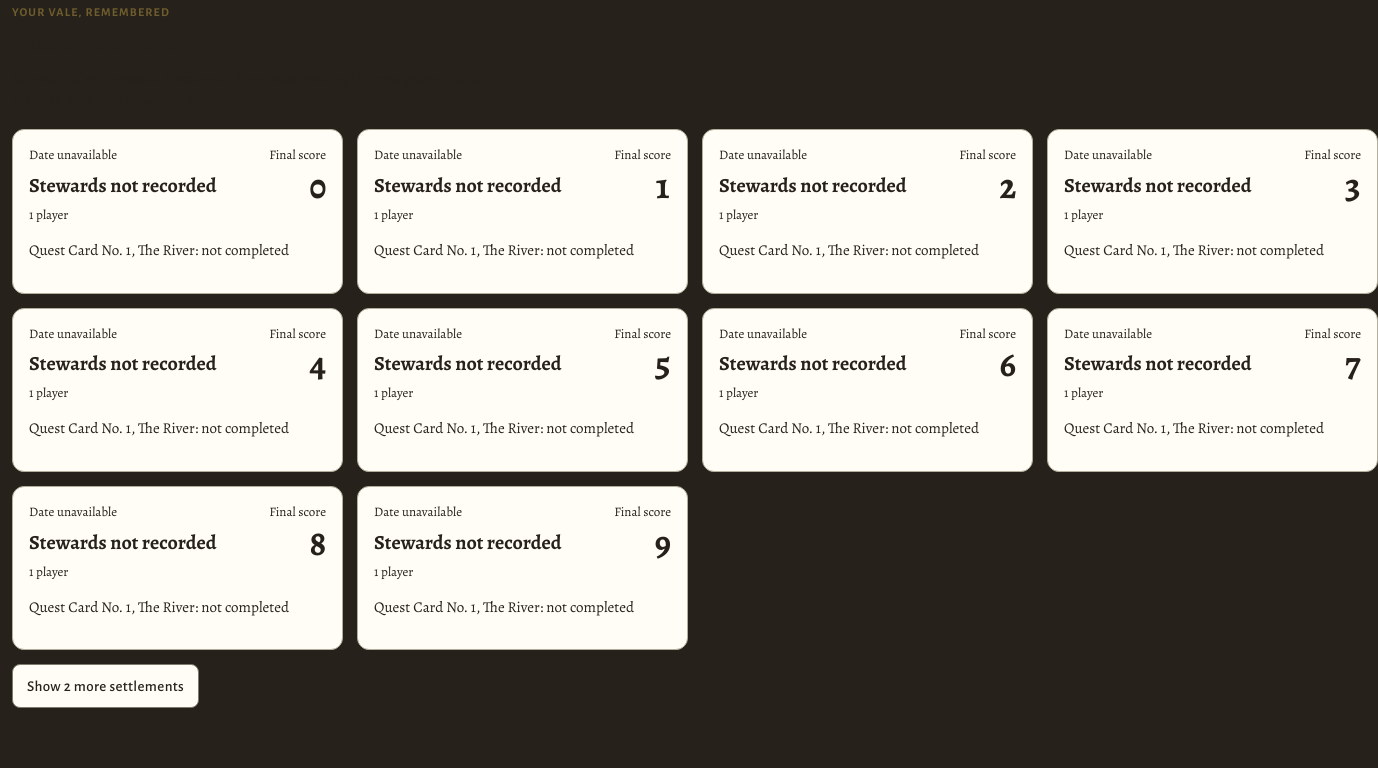
it: recorded settlement history › provides an honest empty state and pages a longer saved history
The width and height of the screenshot is (1378, 768).
Later steps or results of the test are not shown.
Step 1. Click the button "Show 2 more settlements" → (106, 686), box left=12, top=664, right=199, bottom=708
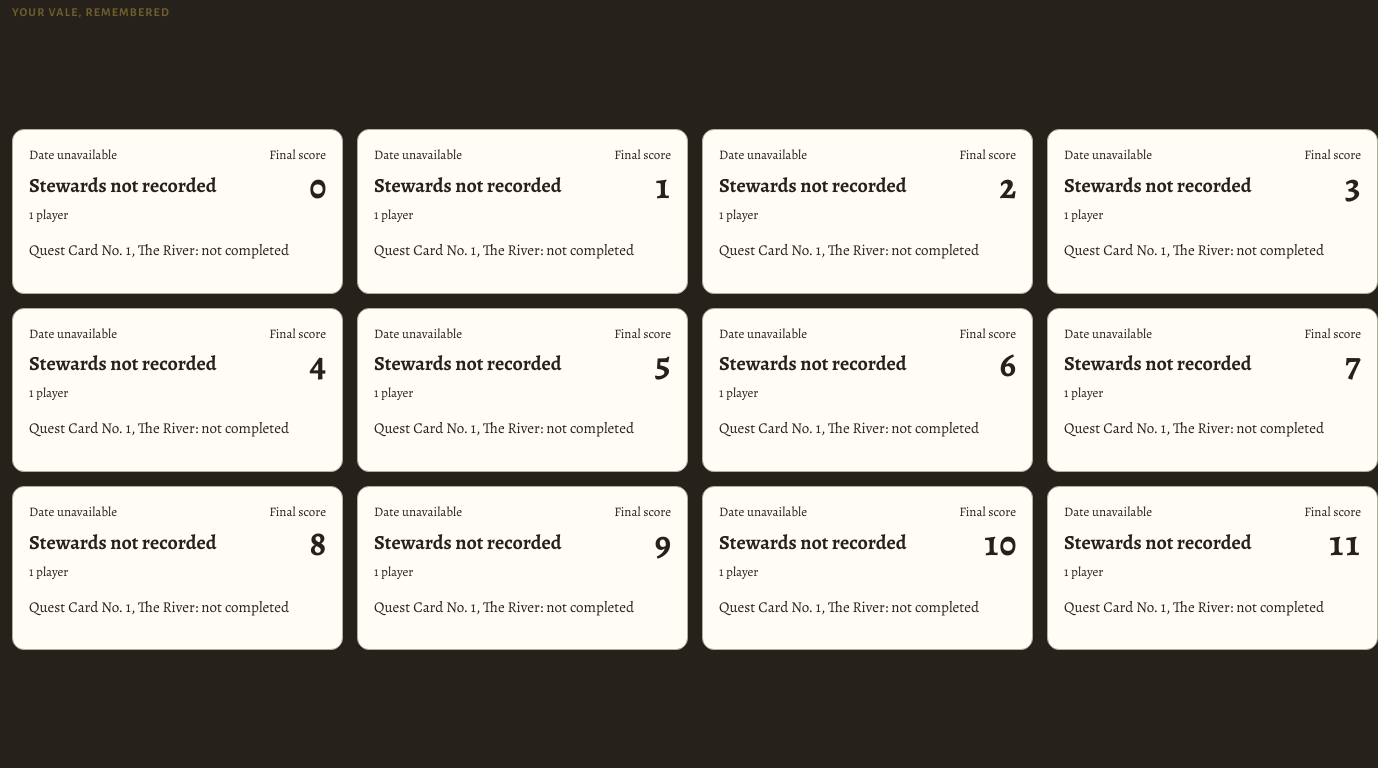
Expected: the button "Show 2 more settlements" is gone
